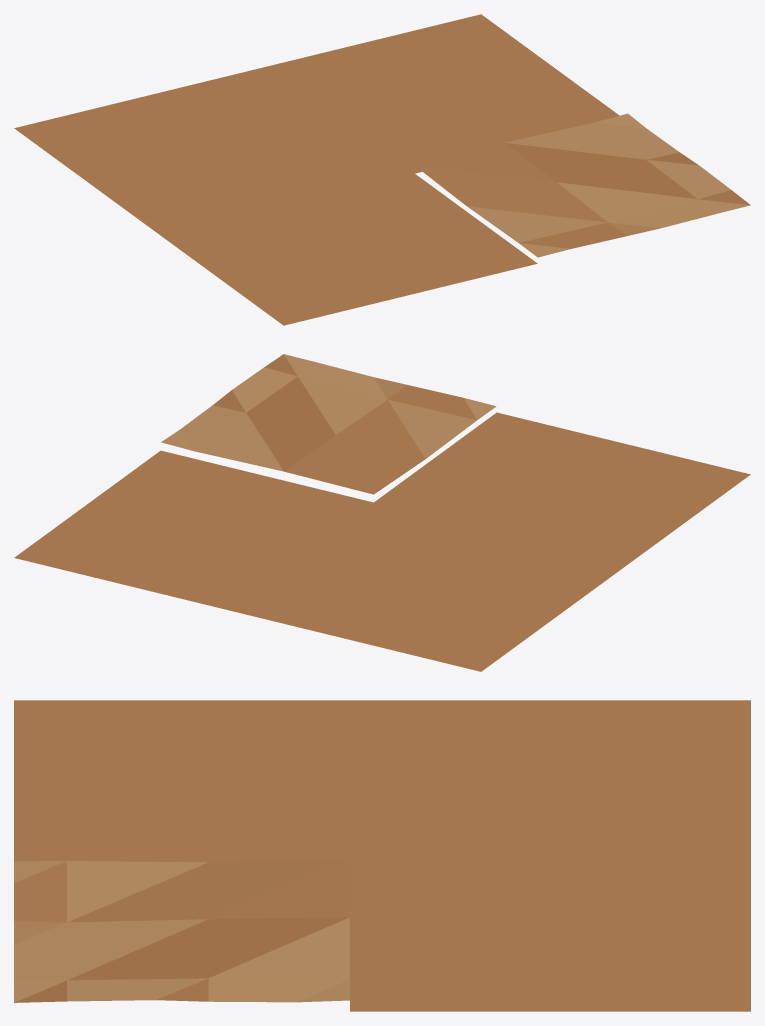
3 views of the same model, one above another, from view 1: azimuth 30°, elevation 25°; view 2: azimuth 150°, elevation 25°; view 3: azimuth 270°, elevation 25° (orthographic). The views are drawn at different scales.
Parts seen in each view (by area): view 1: baked; view 2: baked; view 3: baked.
Part boxes in pixels (left/top/right/bottom): baked: left=14, top=14, right=750, bottom=325; baked: left=14, top=354, right=750, bottom=671; baked: left=14, top=700, right=750, bottom=1011.
Bounding box in the file's own units: 62.5 × 1.15 × 62.5.
